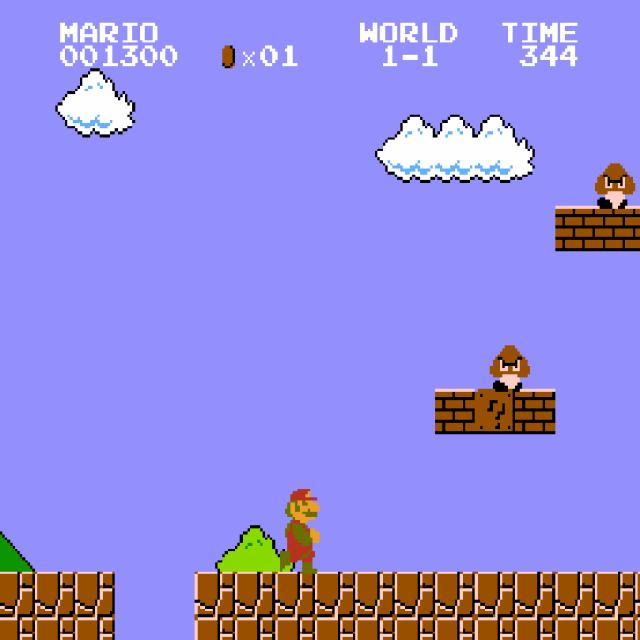big_mario: (277, 480, 320, 574)
brick_block: (435, 389, 475, 434), (515, 389, 555, 434), (555, 206, 595, 251), (595, 206, 635, 251), (635, 206, 640, 251)
goomba: (487, 343, 530, 391), (593, 160, 635, 208)
mystery_block: (475, 389, 515, 434)
undestructible_block: (35, 572, 75, 617), (75, 572, 115, 617), (195, 572, 235, 617), (235, 572, 275, 617), (275, 572, 315, 617), (315, 572, 355, 617), (355, 572, 395, 617), (395, 572, 435, 617), (435, 572, 475, 617), (475, 572, 515, 617), (515, 572, 555, 617), (555, 572, 595, 617), (595, 572, 635, 617), (0, 572, 35, 617), (35, 617, 75, 640), (75, 617, 115, 640), (195, 617, 235, 640), (235, 617, 275, 640), (275, 617, 315, 640), (315, 617, 355, 640), (355, 617, 395, 640), (395, 617, 435, 640), (435, 617, 475, 640), (475, 617, 515, 640), (515, 617, 555, 640), (555, 617, 595, 640), (595, 617, 635, 640), (0, 617, 35, 640), (635, 572, 640, 617), (635, 617, 640, 640)
